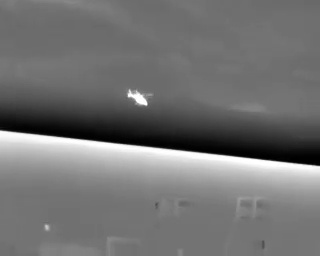HELICOPTER: (123, 84, 157, 114)
